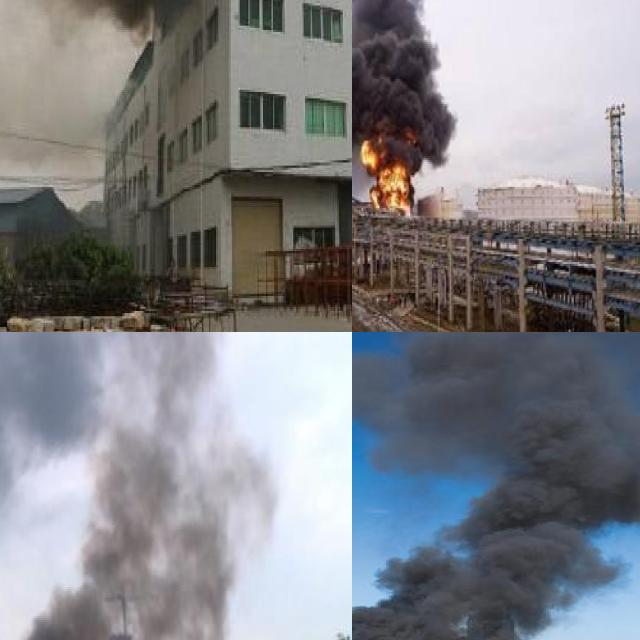fire: (362, 131, 412, 210)
smoke: (352, 332, 640, 640), (0, 332, 281, 640), (352, 0, 453, 167)
